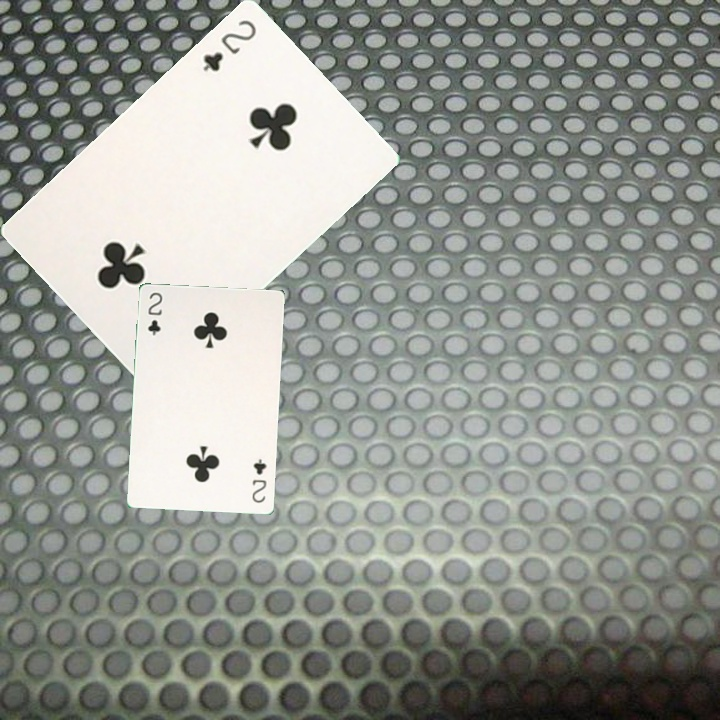2c: (198, 15, 259, 74), (143, 288, 165, 338), (248, 455, 269, 505)
